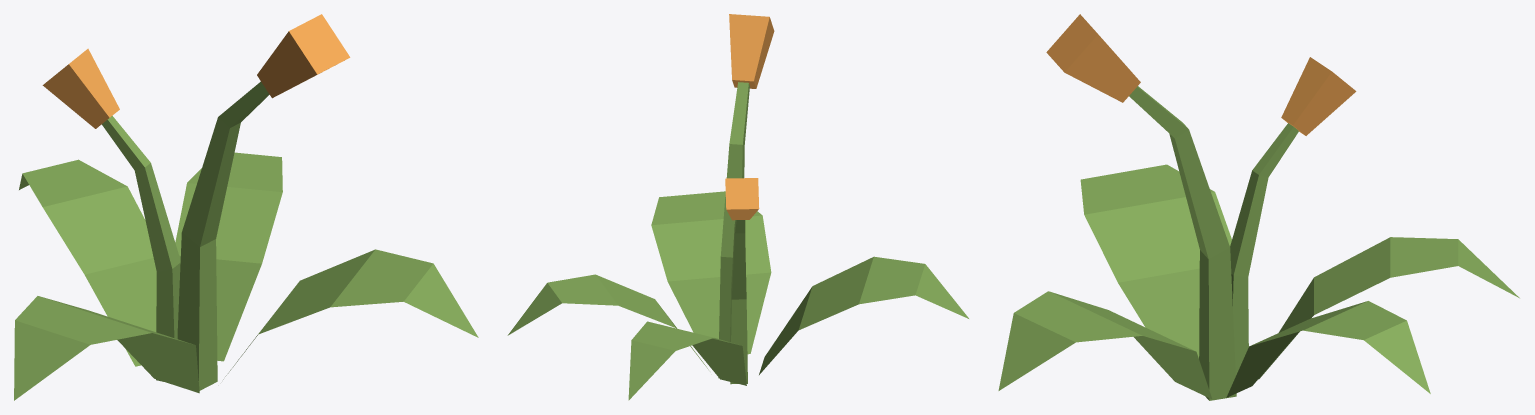
Rendered from Flower_Orange_2.fbx.
3 views of the same model, side by side, from view 1: azimuth 30°, elevation 25°; view 2: azimuth 150°, elevation 25°; view 3: azimuth 270°, elevation 25° (orthographic). The views are drawn at different scales.
Parts seen in each view (by area): view 1: Flower_Orange_2; view 2: Flower_Orange_2; view 3: Flower_Orange_2.
Part boxes in pixels (x1=…): Flower_Orange_2: x1=14, y1=14, x2=478, y2=400; Flower_Orange_2: x1=507, y1=14, x2=968, y2=400; Flower_Orange_2: x1=998, y1=14, x2=1519, y2=400.
Size of the model in its own units: 41.31 by 37.4 by 45.44.
